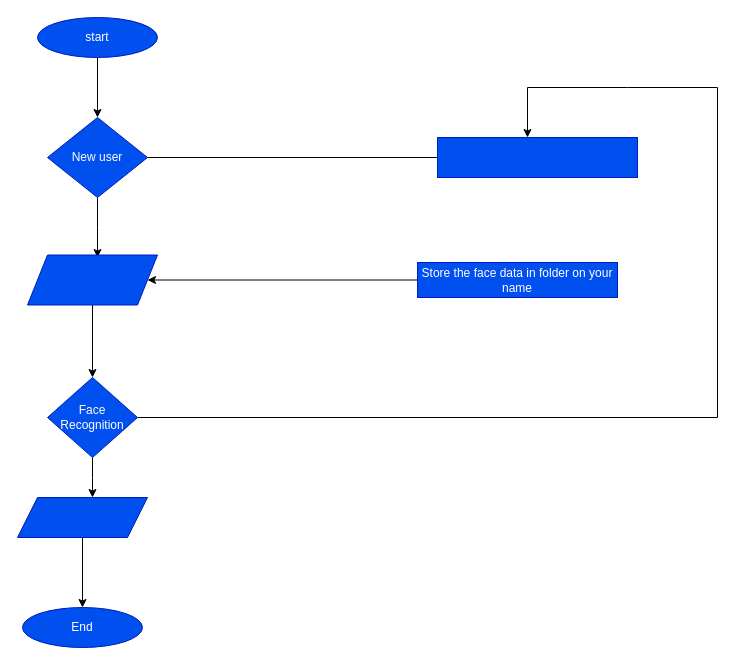
Image size: 743x665. Some labels were removed from this diagram. Each missing label, with the box of its shape:
Give your photograph: (436, 136, 638, 178)
Recognize the face: (26, 254, 158, 305)
Stored in CSV file: (16, 496, 148, 538)
